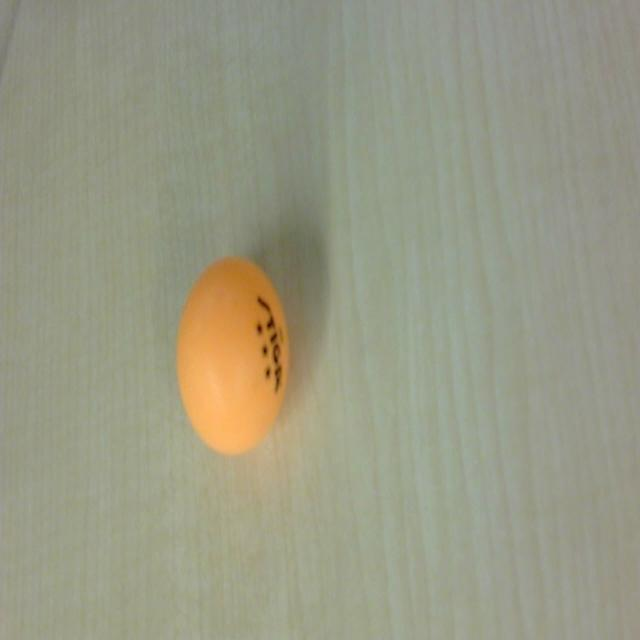ball: (175, 256, 292, 460)
